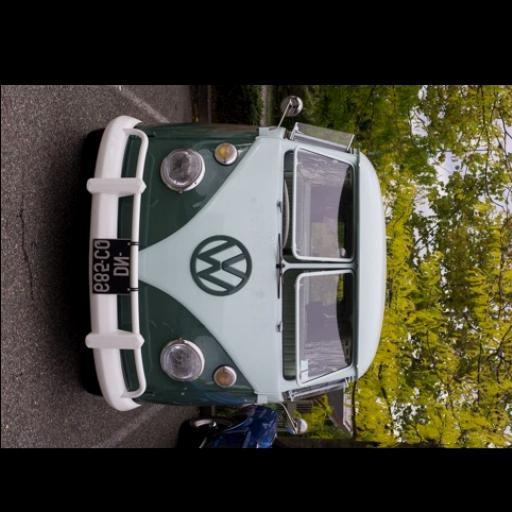car: (280, 98, 302, 121)
sedan: (183, 407, 288, 448)
van: (84, 118, 387, 411)
